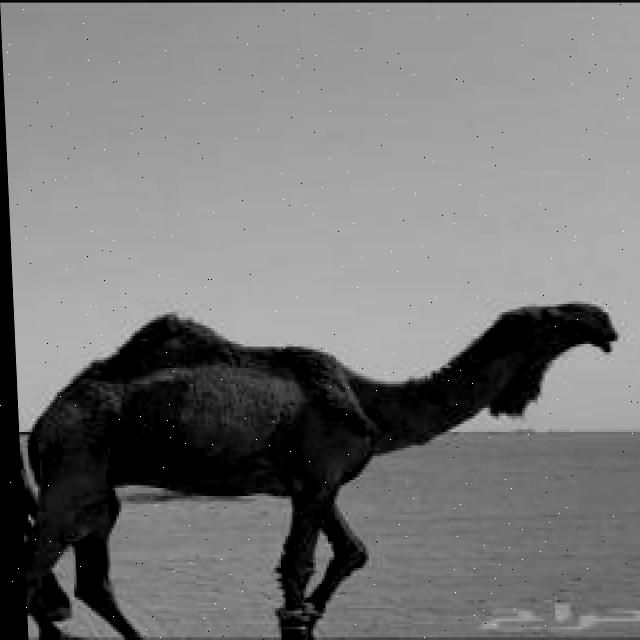Camel: (14, 299, 631, 637)
